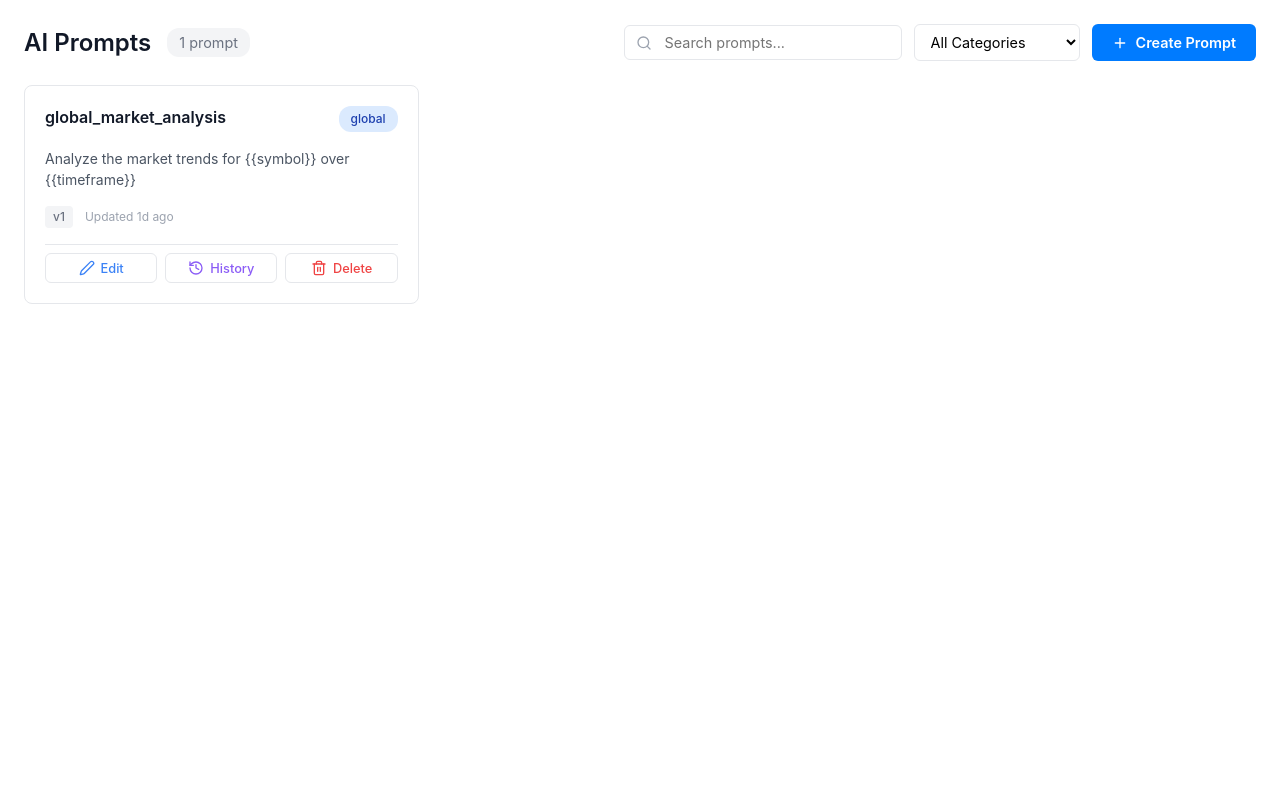
Test case: PromptsManager › View Switching › should return to list view when editor is cancelled
Expected: the heading "global_market_analysis" is shown, [45,107,226,127]
// Open editor
What coordinates should you click on to do the following:
click the button "Edit"
I would click on:
 (101, 268)
Its box is [45,253,157,283].
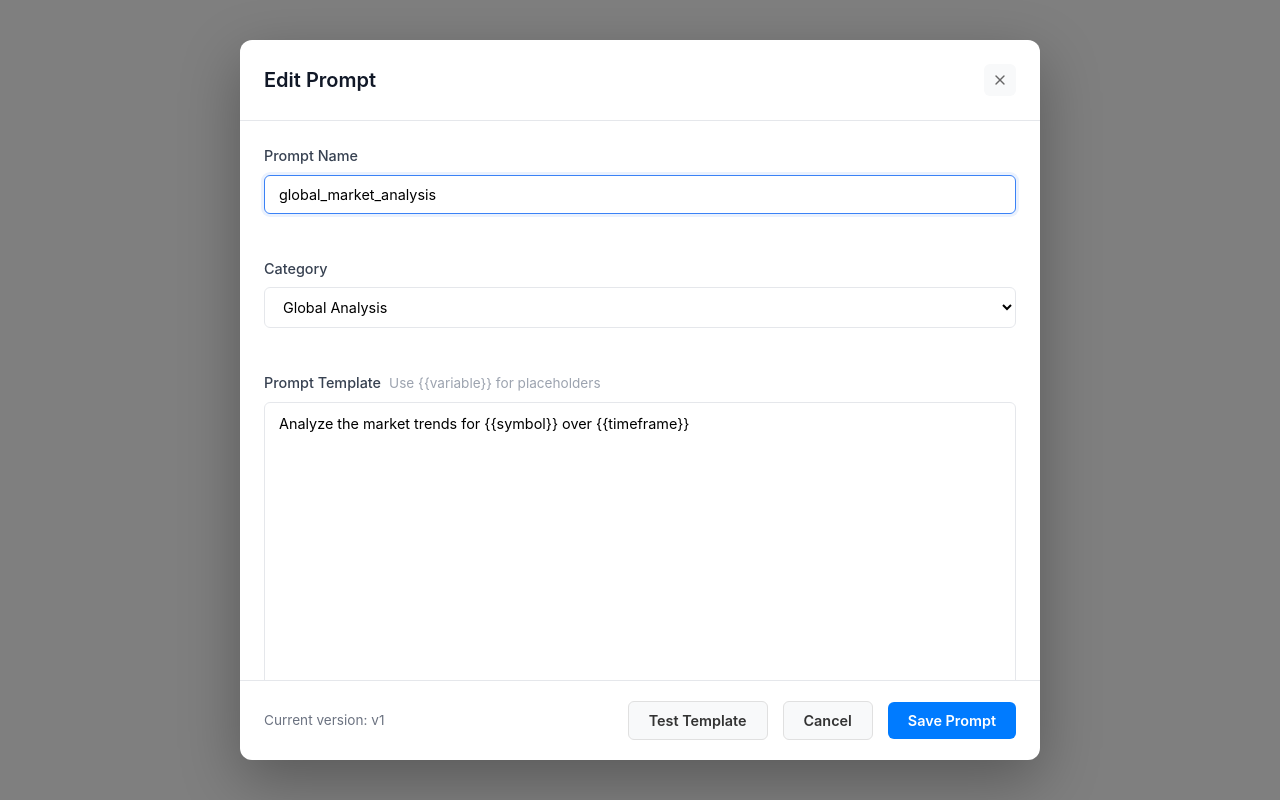
Expected: the heading "Edit Prompt" is shown, [264,67,376,93]
What coordinates should you click on to do the following:
click the button "Cancel"
I would click on:
 (828, 720)
Its box is [782,701,873,740].
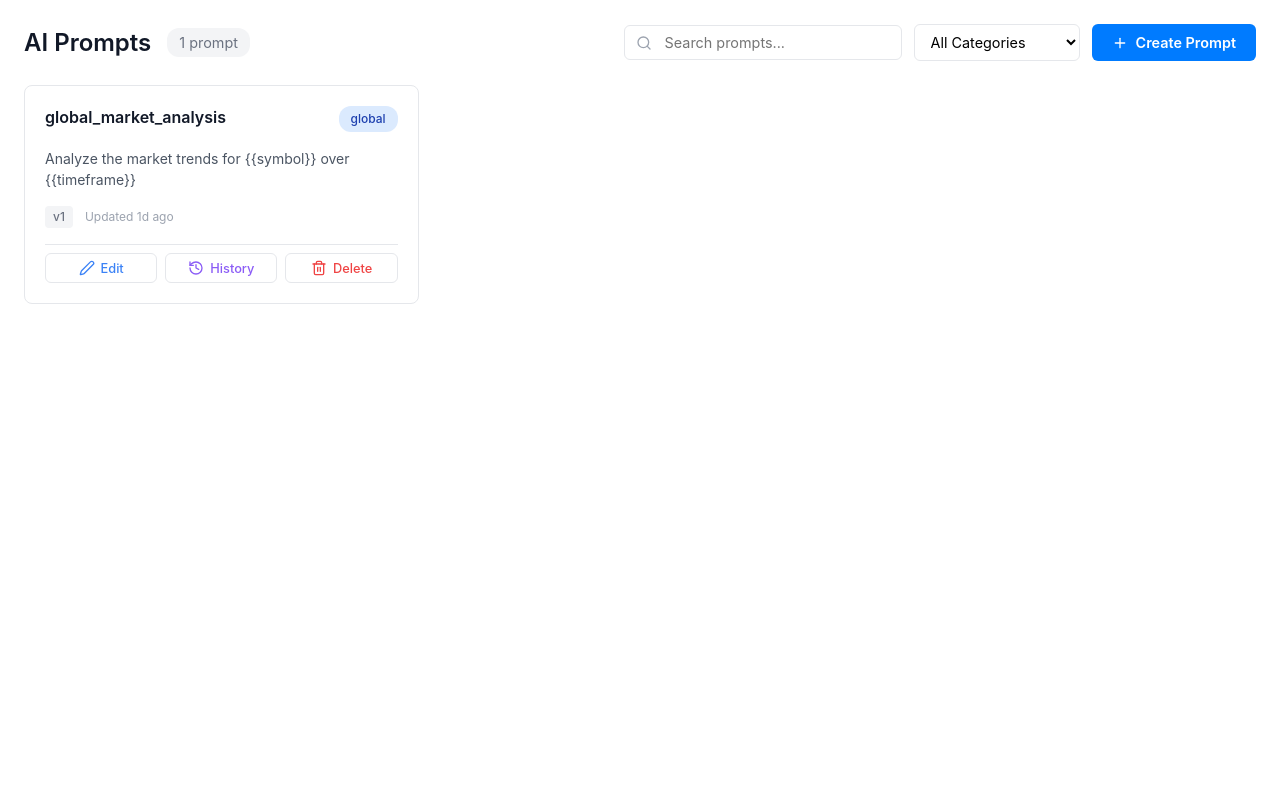
Expected: the heading "global_market_analysis" is shown, [45,107,226,127]
